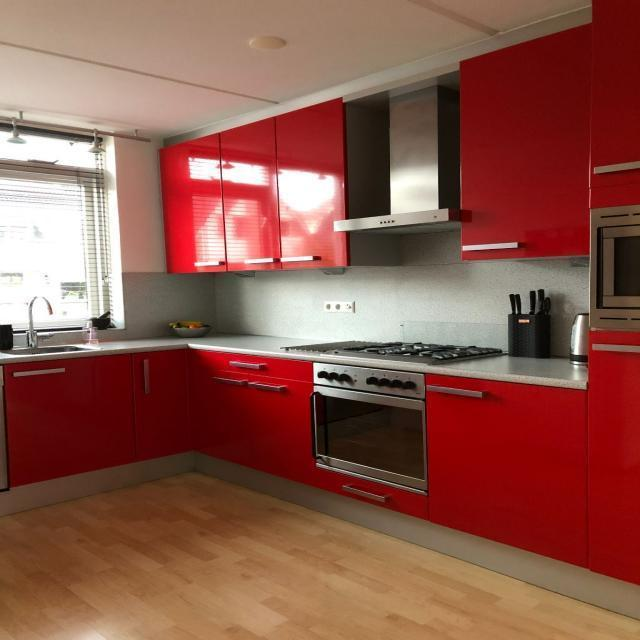cabinet_door: (460, 44, 592, 255), (425, 380, 585, 547), (587, 338, 640, 579), (0, 363, 129, 462), (278, 117, 346, 264), (594, 0, 640, 208), (194, 374, 311, 455), (163, 136, 225, 271), (224, 130, 279, 268), (133, 352, 189, 445), (314, 474, 425, 508), (189, 355, 316, 379)
handle: (424, 380, 488, 403), (340, 482, 392, 507), (462, 236, 525, 256), (12, 361, 69, 383), (590, 157, 640, 182), (590, 337, 640, 359), (246, 375, 289, 398), (210, 371, 252, 393), (138, 355, 155, 398), (280, 249, 321, 265), (228, 358, 266, 372), (245, 251, 277, 267), (194, 256, 225, 271)
